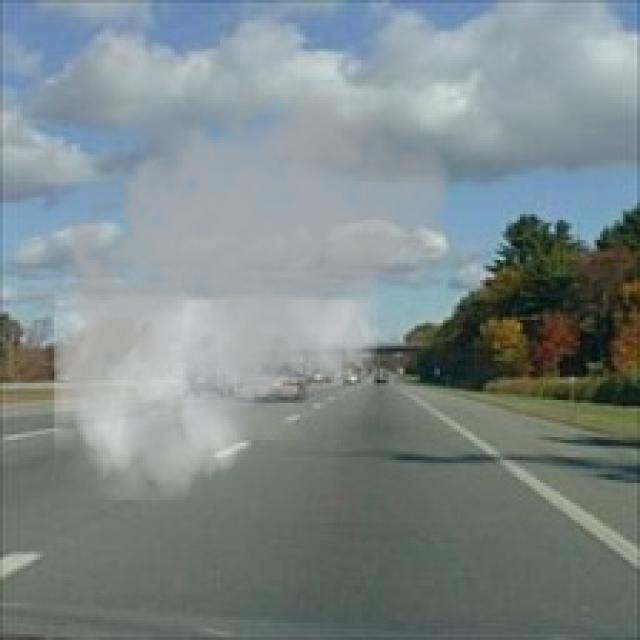smoke: (37, 74, 460, 500)
